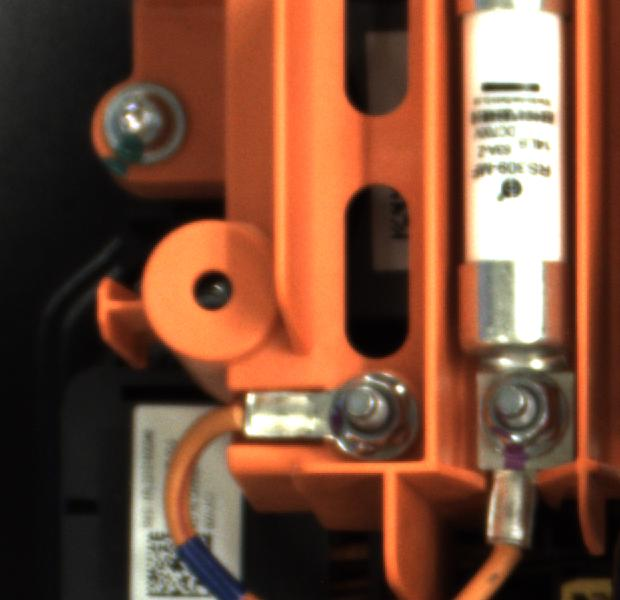screw_m: (85, 79, 202, 180)
screw_s: (465, 367, 570, 464), (323, 362, 422, 460)
